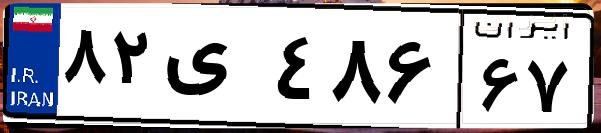2: (110, 28, 158, 98)
4: (270, 28, 330, 110)
6: (385, 28, 445, 110), (475, 38, 525, 113)
7: (525, 38, 570, 115)
8: (330, 28, 385, 110), (57, 26, 110, 100)
ی: (158, 20, 270, 120)
